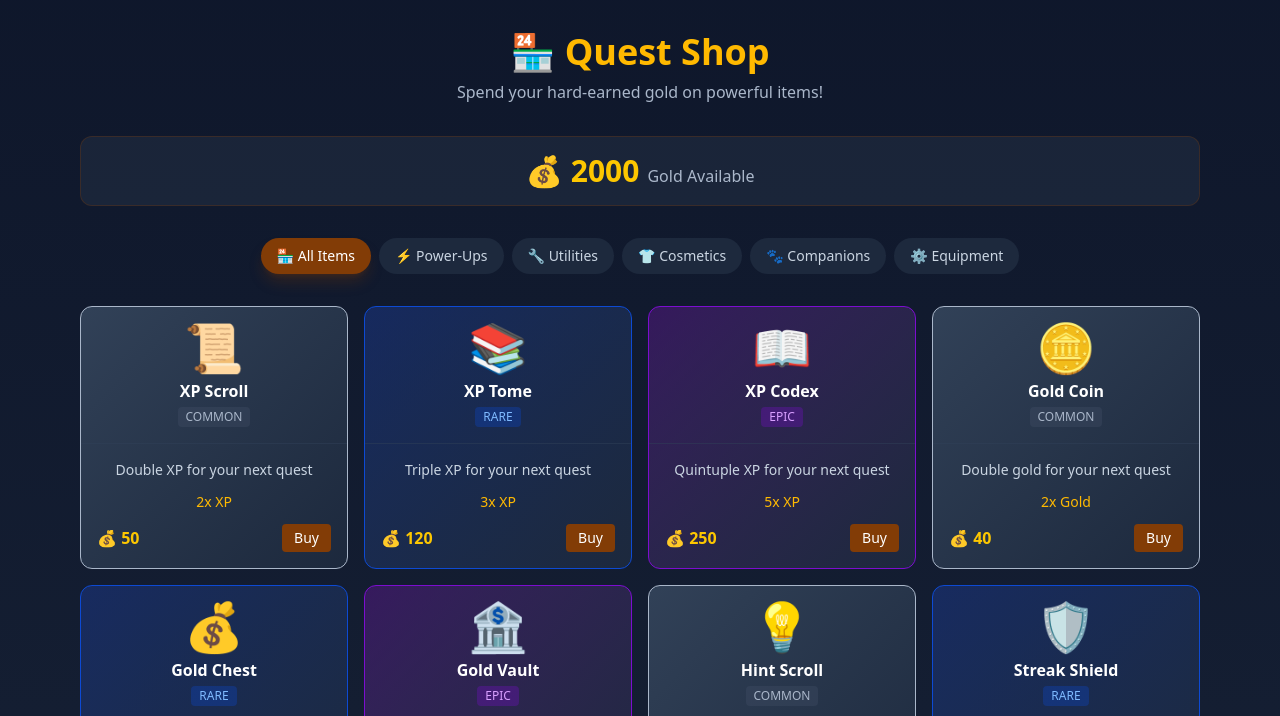
Test case: StorePage › shows every equipment item with its slot when filtered
Click the button "⚙️ Equipment": (957, 256) [894,238,1019,274]
(page scrolled)
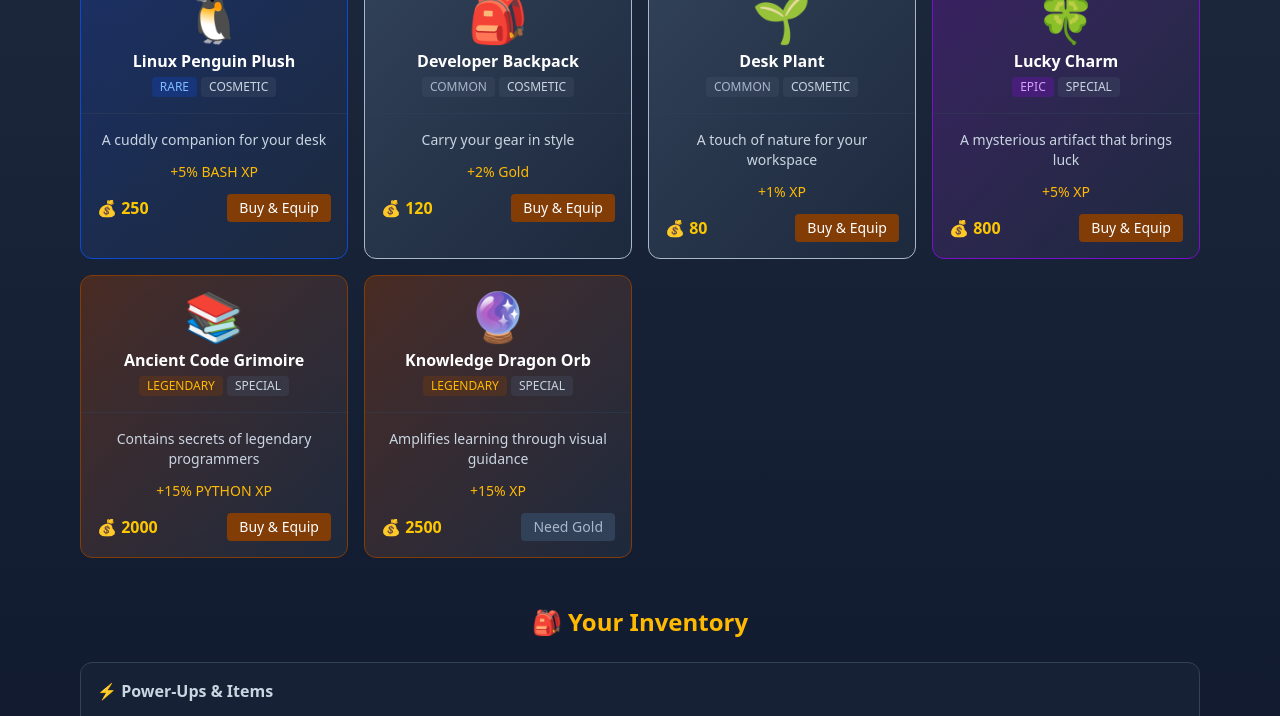
Expected: the heading "Linux Penguin Plush" is shown, [133,50,295,72]
Expected: the heading "XP Scroll" is gone
